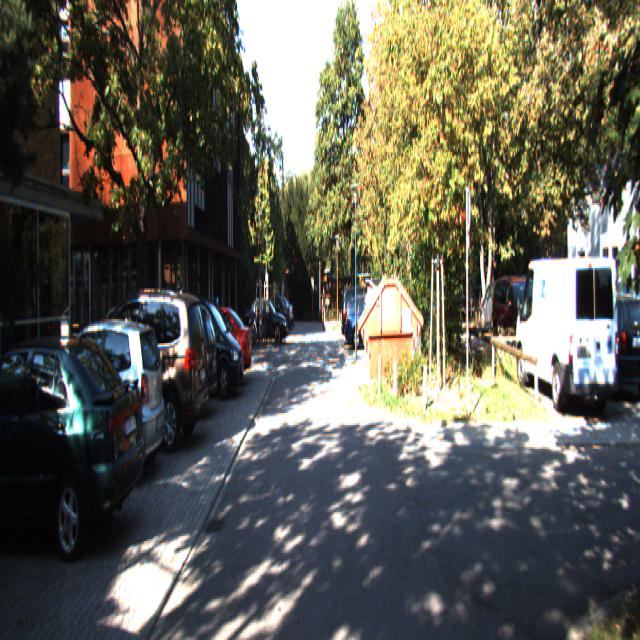Car: (0, 324, 150, 562), (24, 313, 168, 492), (64, 285, 210, 456), (511, 249, 622, 420), (114, 300, 220, 419), (160, 288, 245, 401), (562, 288, 640, 403), (172, 310, 252, 393), (492, 274, 554, 366), (344, 293, 393, 350)
